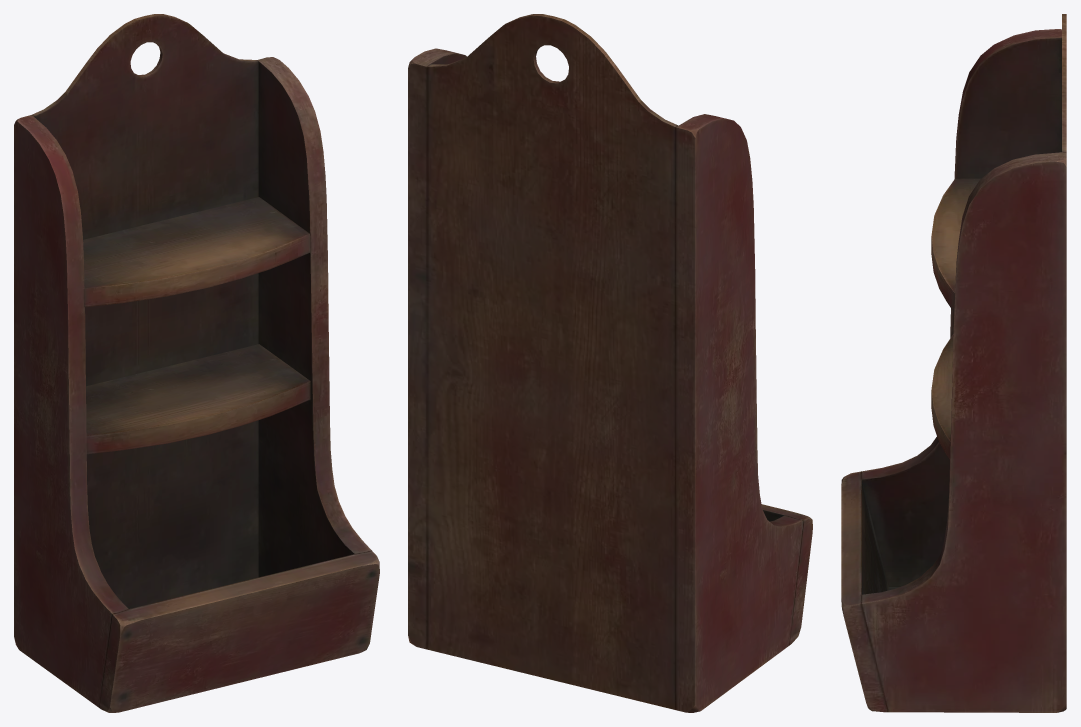
File: painted_wooden_shelves.glb
The picture shows the model from 3 angles, left to right: view 1: azimuth 30°, elevation 25°; view 2: azimuth 150°, elevation 25°; view 3: azimuth 270°, elevation 25°; orthographic projection. The views are drawn at different scales.
Visible parts, largest first — view 1: painted_wooden_shelves; view 2: painted_wooden_shelves; view 3: painted_wooden_shelves.
Part boxes in pixels (x1,y1,x2,y2): painted_wooden_shelves: [14, 14, 379, 712]; painted_wooden_shelves: [408, 14, 812, 712]; painted_wooden_shelves: [841, 14, 1066, 712].
Size of the model in its own units: 0.5111 by 1.13 by 0.3671.
1 material, 1 textured.
